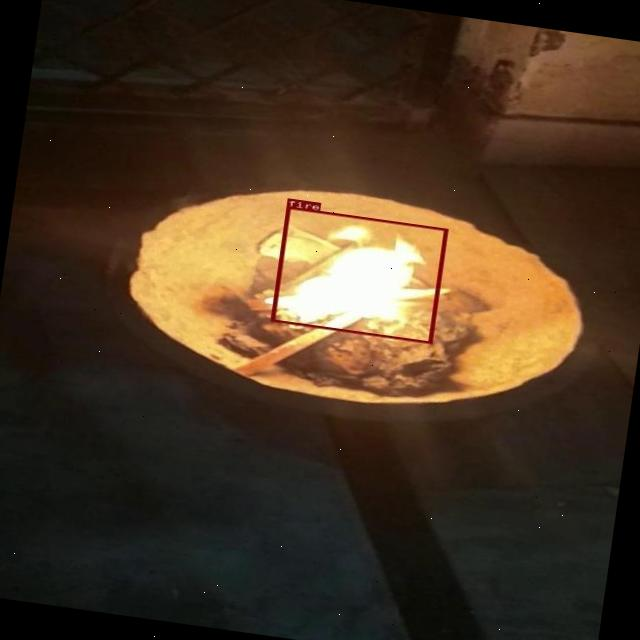fire: (270, 206, 448, 344)
